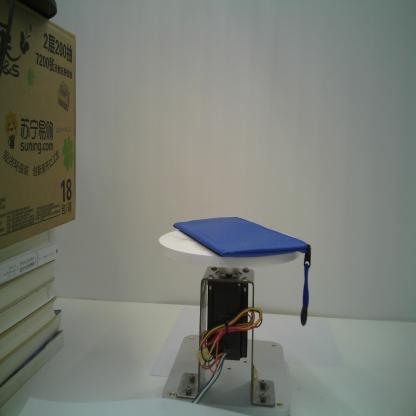Stationery: (172, 215, 313, 328)
